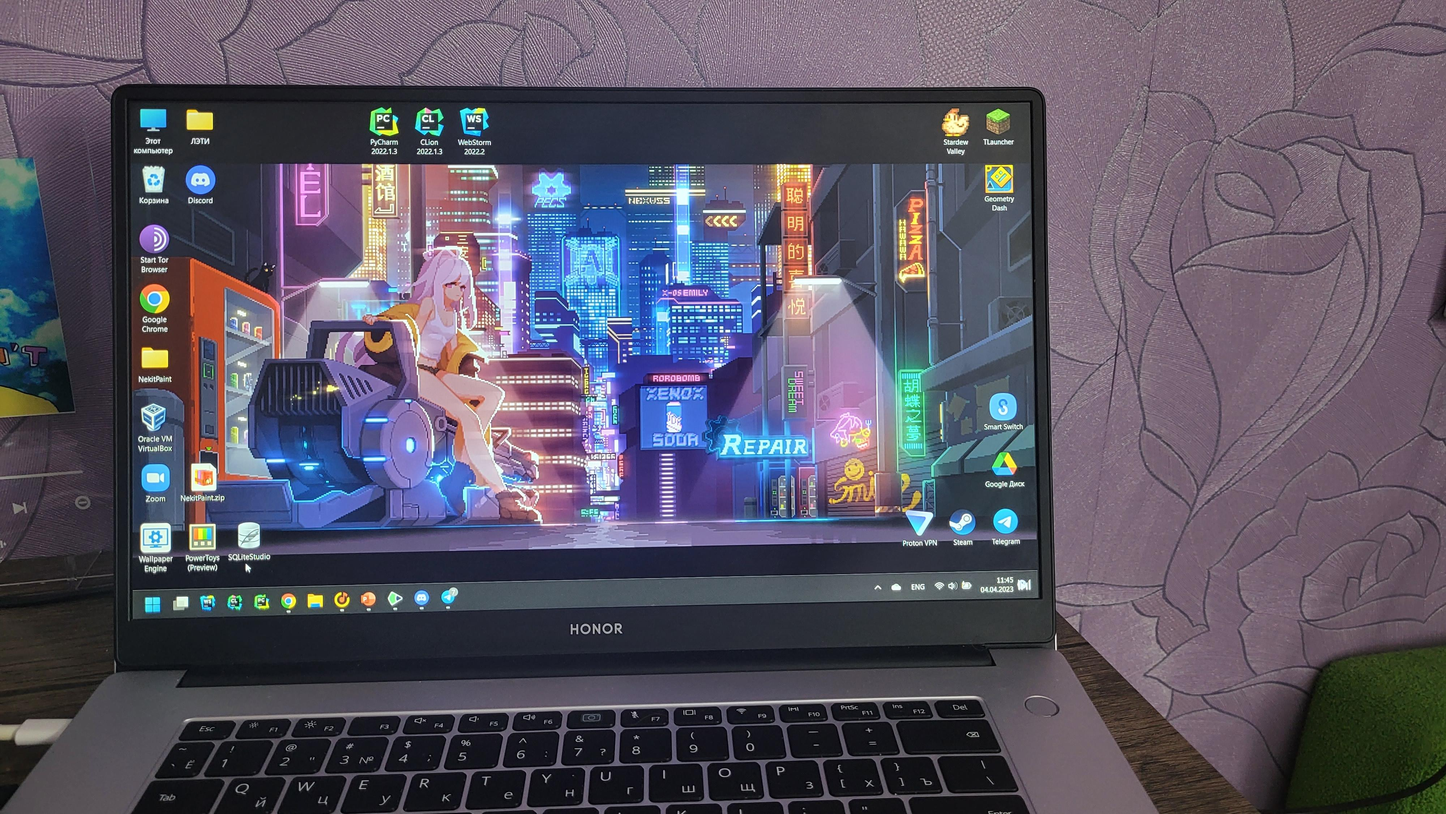monitor: (105, 80, 1057, 665)
